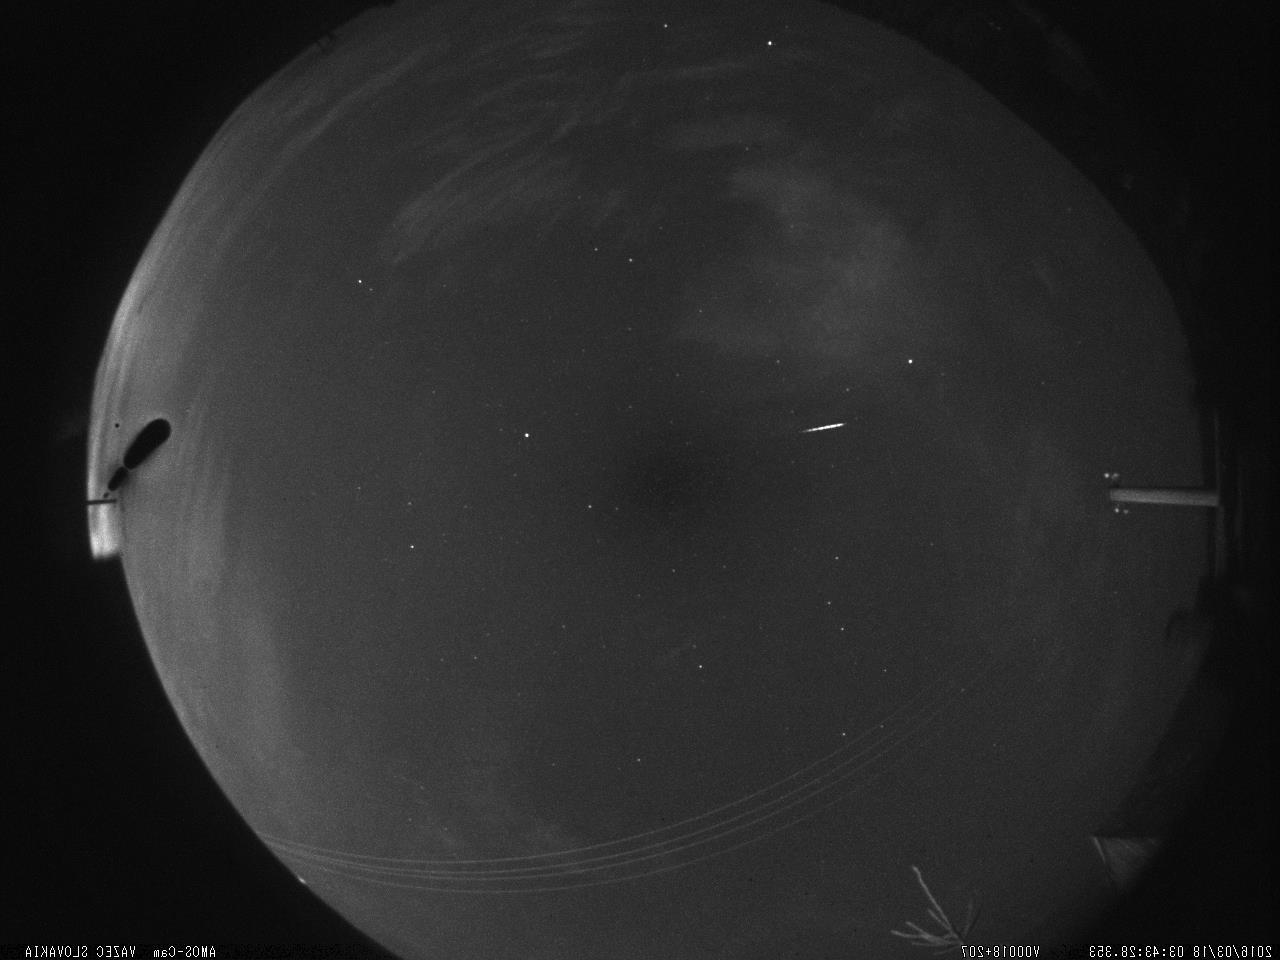meteor: (791, 412, 851, 448)
